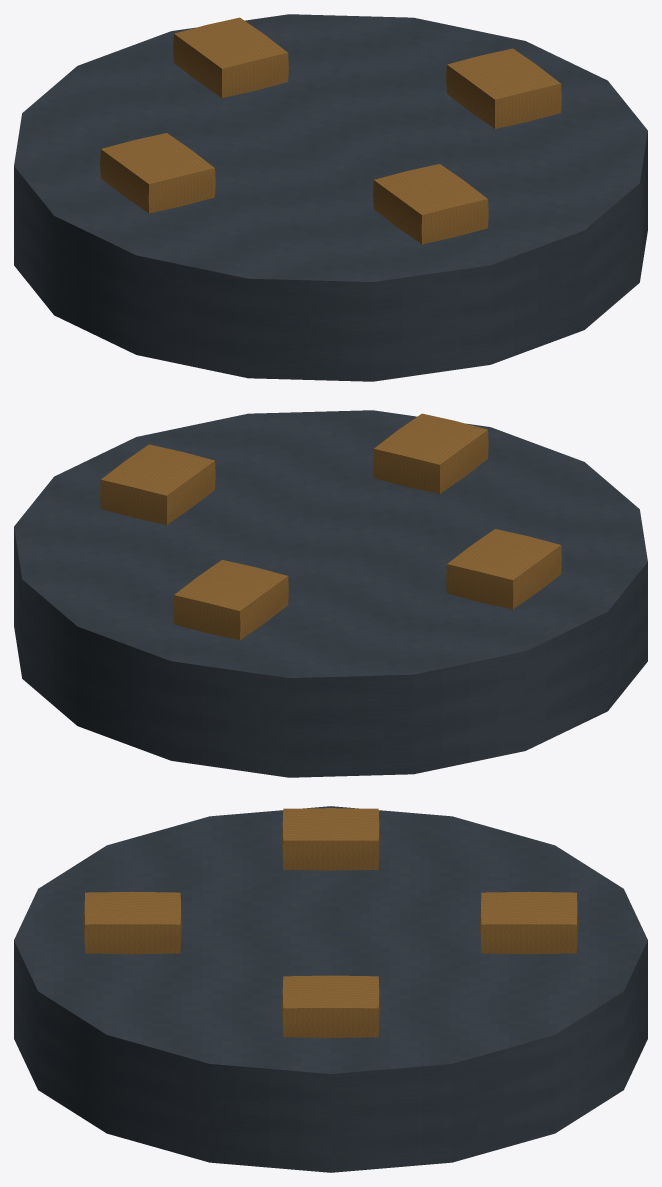
File: trip-mine.lod1.glb
3 views of the same model, one above another, from view 1: azimuth 30°, elevation 25°; view 2: azimuth 150°, elevation 25°; view 3: azimuth 270°, elevation 25° (orthographic).
Visible parts, largest first — view 1: iron.0, brass.4, brass.3, brass.1, brass.2; view 2: iron.0, brass.2, brass.3, brass.1, brass.4; view 3: iron.0, brass.3, brass.1, brass.2, brass.4.
Boxes of the visible parts, <box> form: iron.0: <box>14,14,647,381</box>; brass.4: <box>173,17,288,97</box>; brass.3: <box>100,133,215,213</box>; brass.1: <box>446,48,561,128</box>; brass.2: <box>373,164,488,244</box>; iron.0: <box>14,410,647,777</box>; brass.2: <box>373,413,488,493</box>; brass.3: <box>446,529,561,609</box>; brass.1: <box>100,444,215,524</box>; brass.4: <box>173,560,288,640</box>; iron.0: <box>14,806,647,1172</box>; brass.3: <box>281,808,380,870</box>; brass.1: <box>281,975,380,1037</box>; brass.2: <box>83,891,182,954</box>; brass.4: <box>479,891,578,954</box>.
Size of the model in its own units: 0.32 by 0.0735 by 0.32.
Materials: 2 (2 with a texture image).
